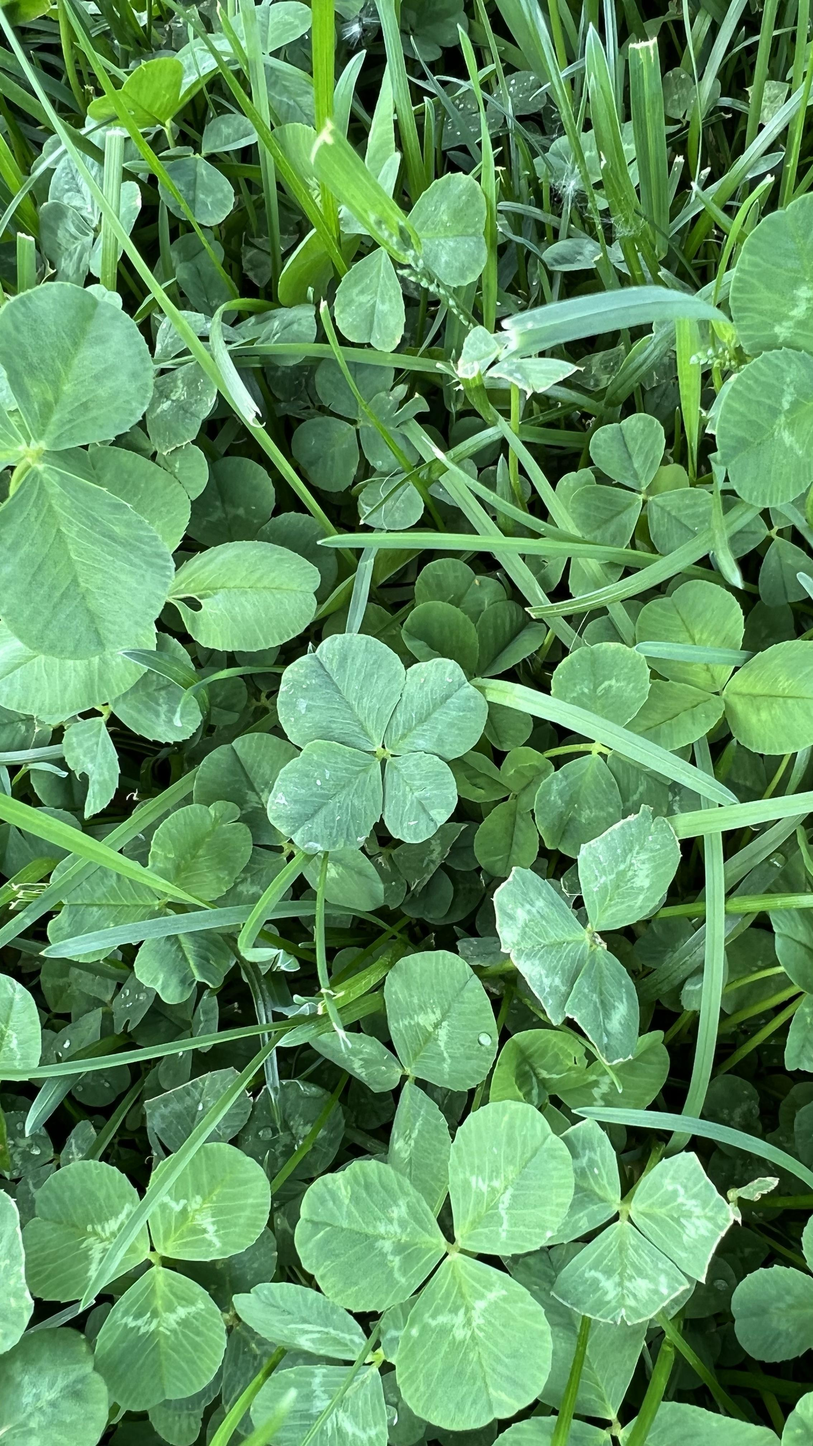4-Leaf-Clovers: (356, 576, 479, 968)
